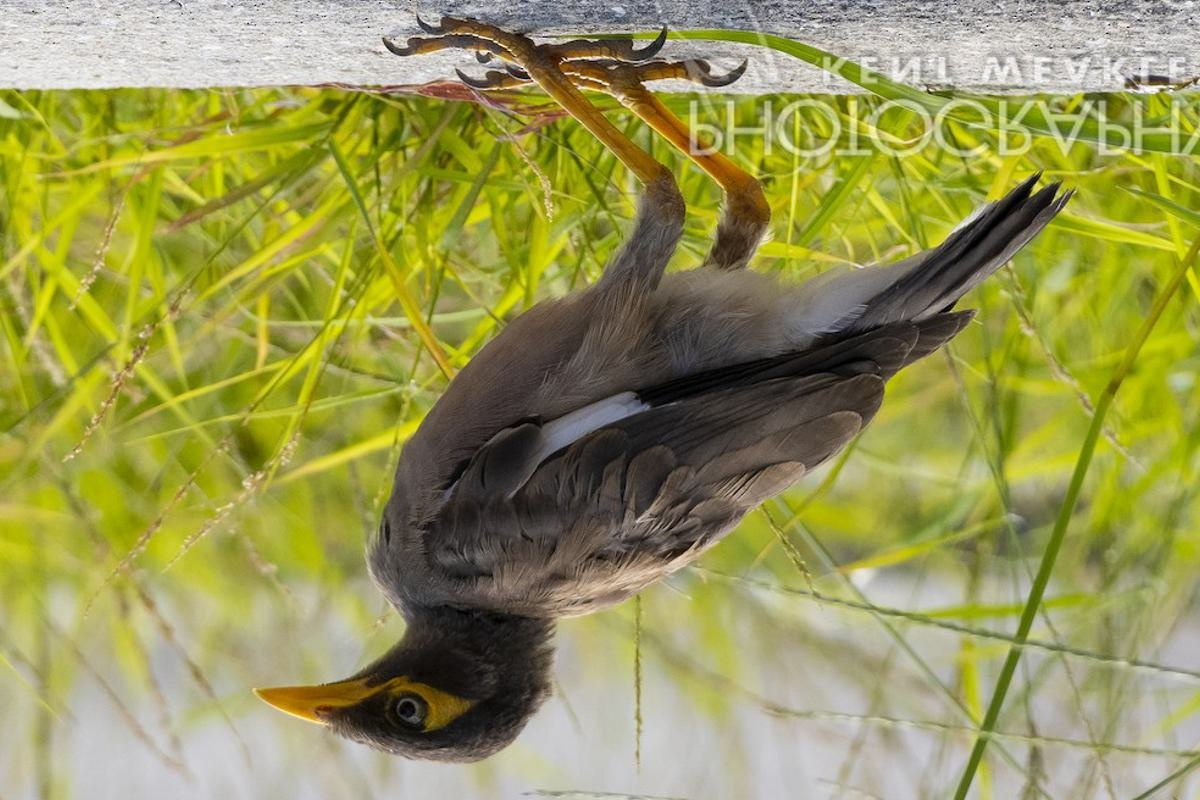myna: (273, 72, 1005, 777)
